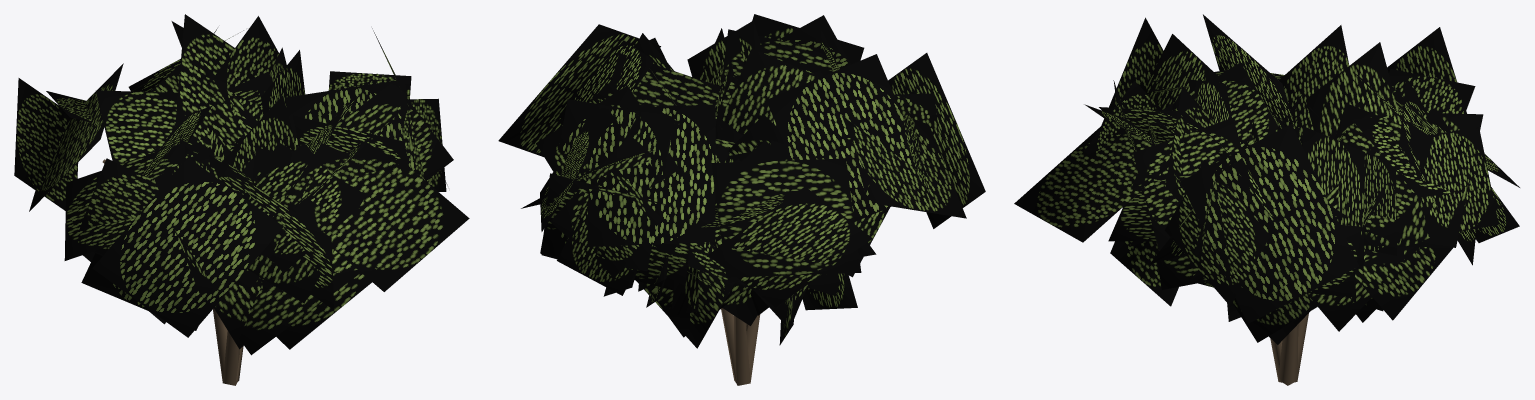
File: andes_pacay_lod1.glb
The picture shows the model from 3 angles, left to right: view 1: azimuth 30°, elevation 25°; view 2: azimuth 150°, elevation 25°; view 3: azimuth 270°, elevation 25°; orthographic projection.
Visible parts, largest first — view 1: GEO-Andes_pacay_LOD1; view 2: GEO-Andes_pacay_LOD1; view 3: GEO-Andes_pacay_LOD1.
Part boxes in pixels (x1,y1,x2,y2): GEO-Andes_pacay_LOD1: [14, 14, 469, 385]; GEO-Andes_pacay_LOD1: [498, 14, 985, 385]; GEO-Andes_pacay_LOD1: [1014, 14, 1519, 385].
Bounding box in the file's own units: 5.82 × 4.63 × 6.26.
Materials: 2 (1 with a texture image).
